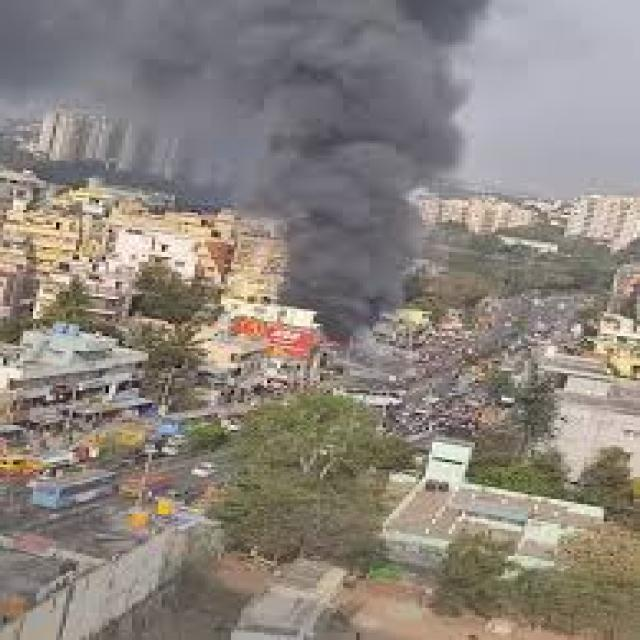smoke: (3, 2, 531, 146), (270, 2, 502, 328)
